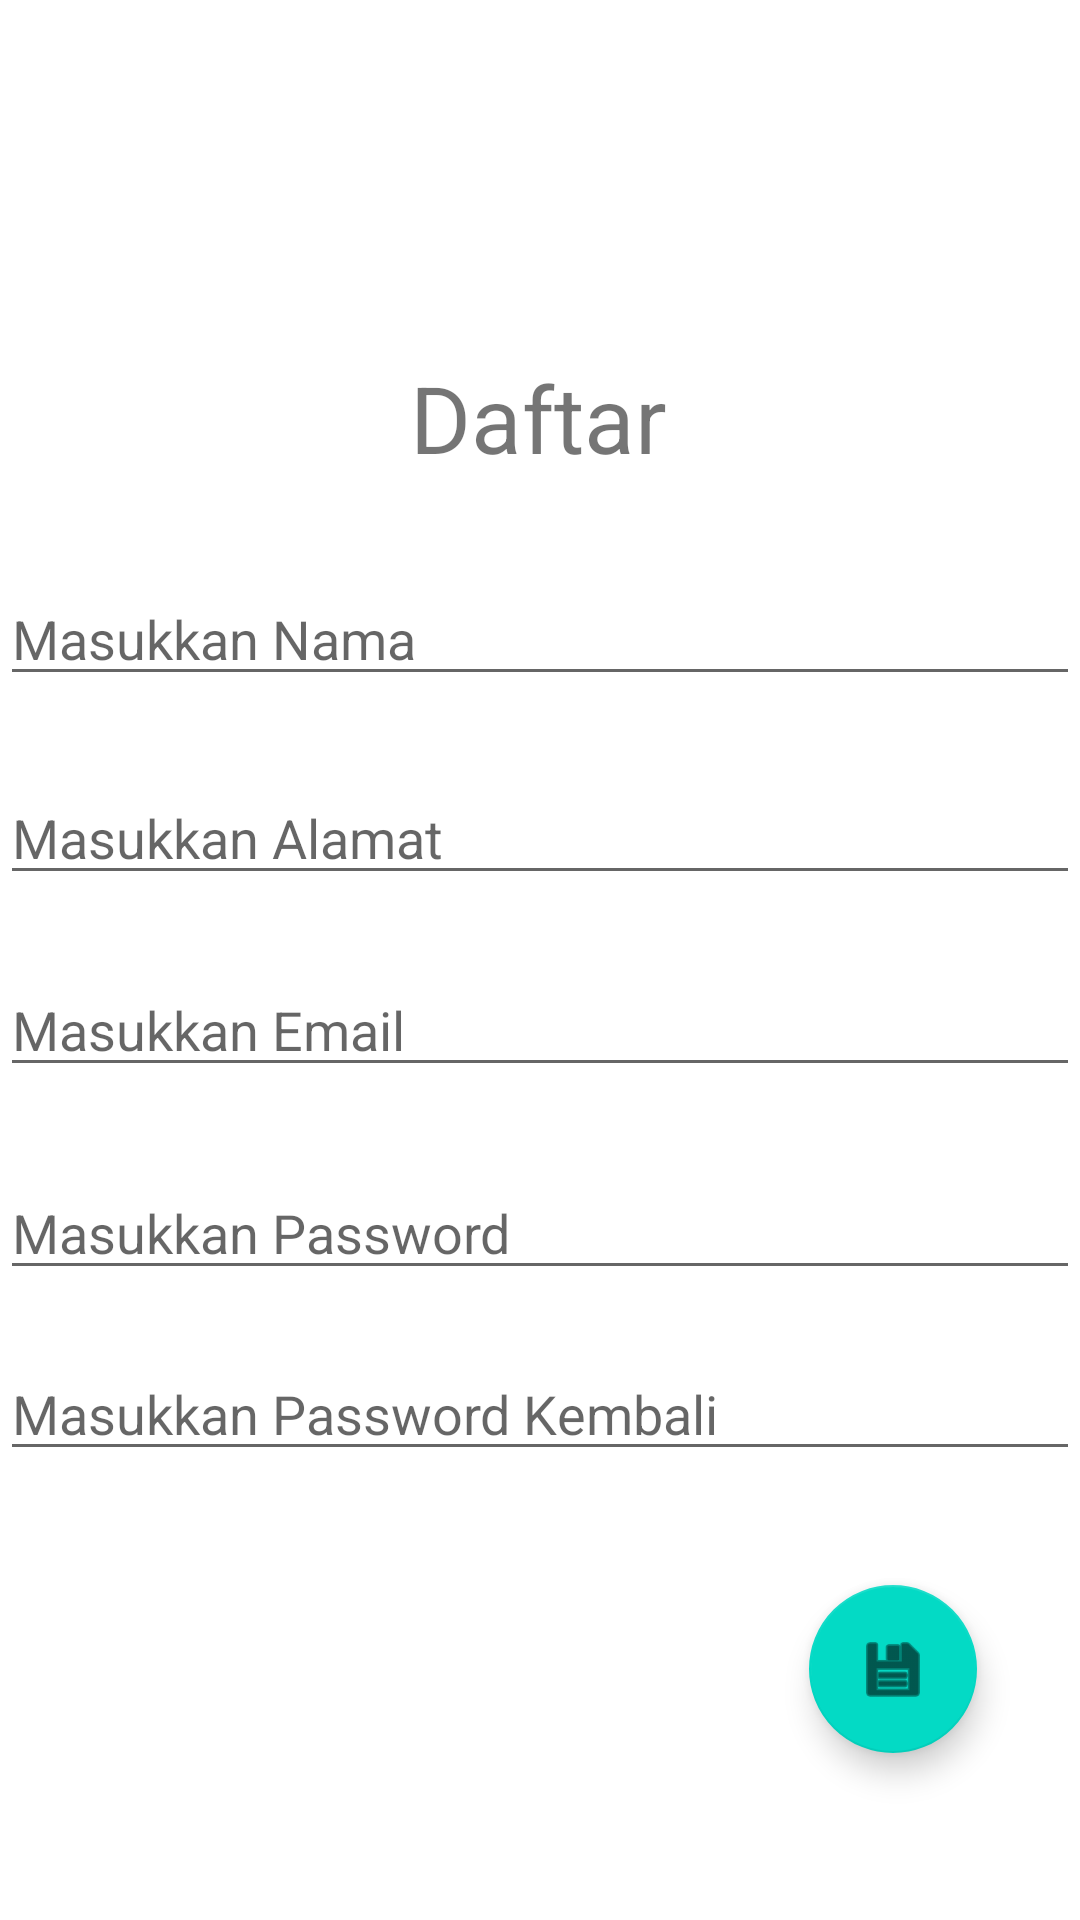

Screen size 1080px×1920px. Icon name, then its box in pixels as (x1,y1,x2,y2):
save: (809,1585,977,1753)
